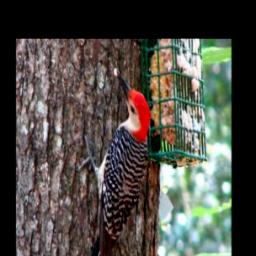Woodpecker: (74, 68, 150, 256)
